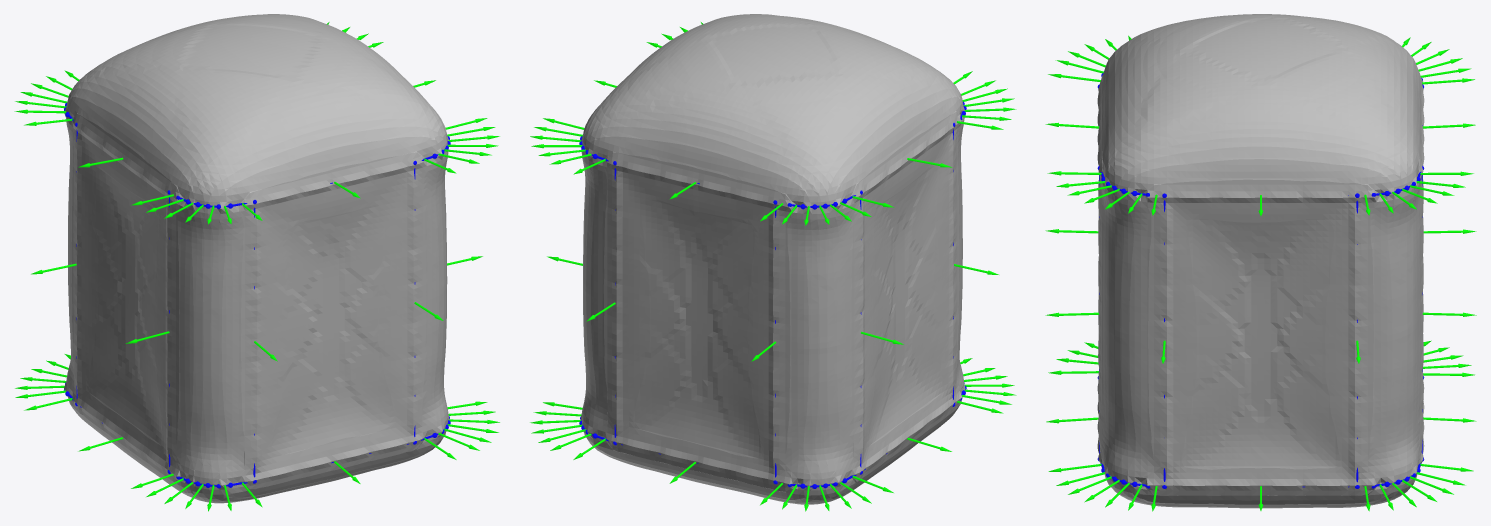
The model's file is onshape_simple_shape.gltf.
3 views of the same model, side by side, from view 1: azimuth 30°, elevation 25°; view 2: azimuth 150°, elevation 25°; view 3: azimuth 270°, elevation 25° (orthographic). The views are drawn at different scales.
Bounding box in the file's own units: 0.7772 × 0.8414 × 0.7771.
